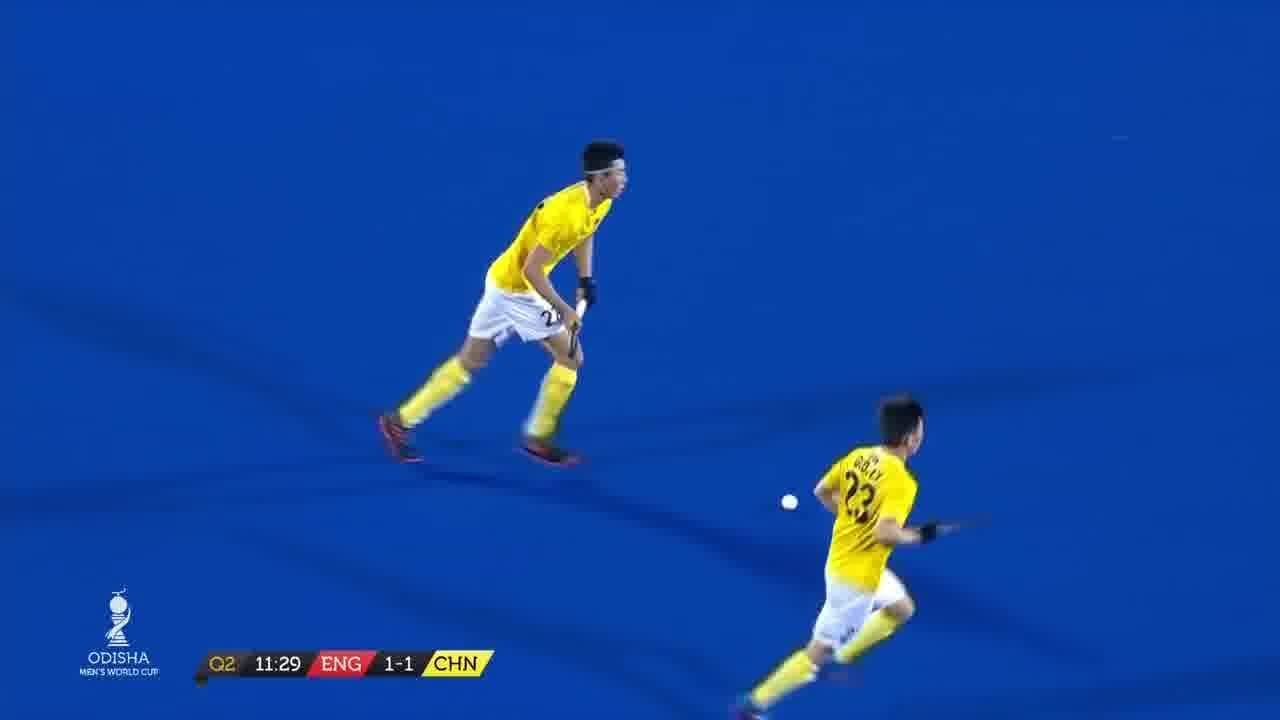ball: (780, 494, 806, 518)
